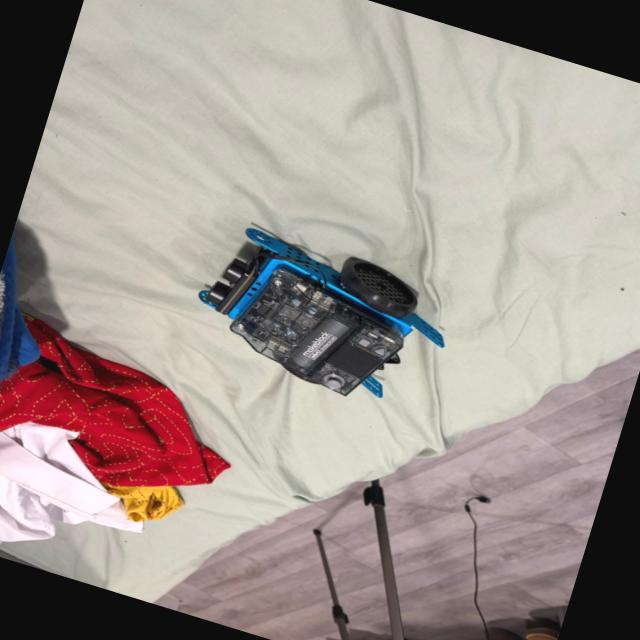mbot-detection: (174, 208, 469, 426)
